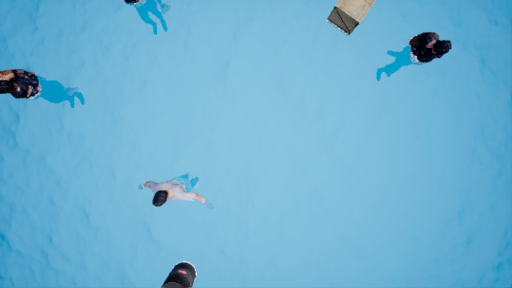person: (1, 61, 88, 114), (372, 31, 452, 86), (137, 169, 218, 217)
